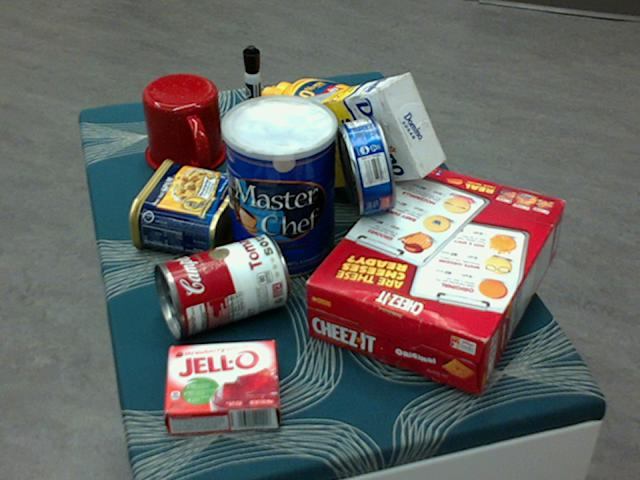cracker_box: (303, 161, 565, 393)
gelatin_box: (164, 339, 280, 433)
large_marker: (242, 44, 264, 148)
master_chef_can: (220, 96, 336, 281)
mug: (142, 74, 228, 176)
mustard_bottle: (261, 77, 424, 168)
potted_meat_can: (128, 159, 246, 257)
sugar_box: (272, 74, 445, 188)
tomato_soup_can: (153, 234, 288, 336)
tuna_fish_can: (337, 114, 396, 213)
